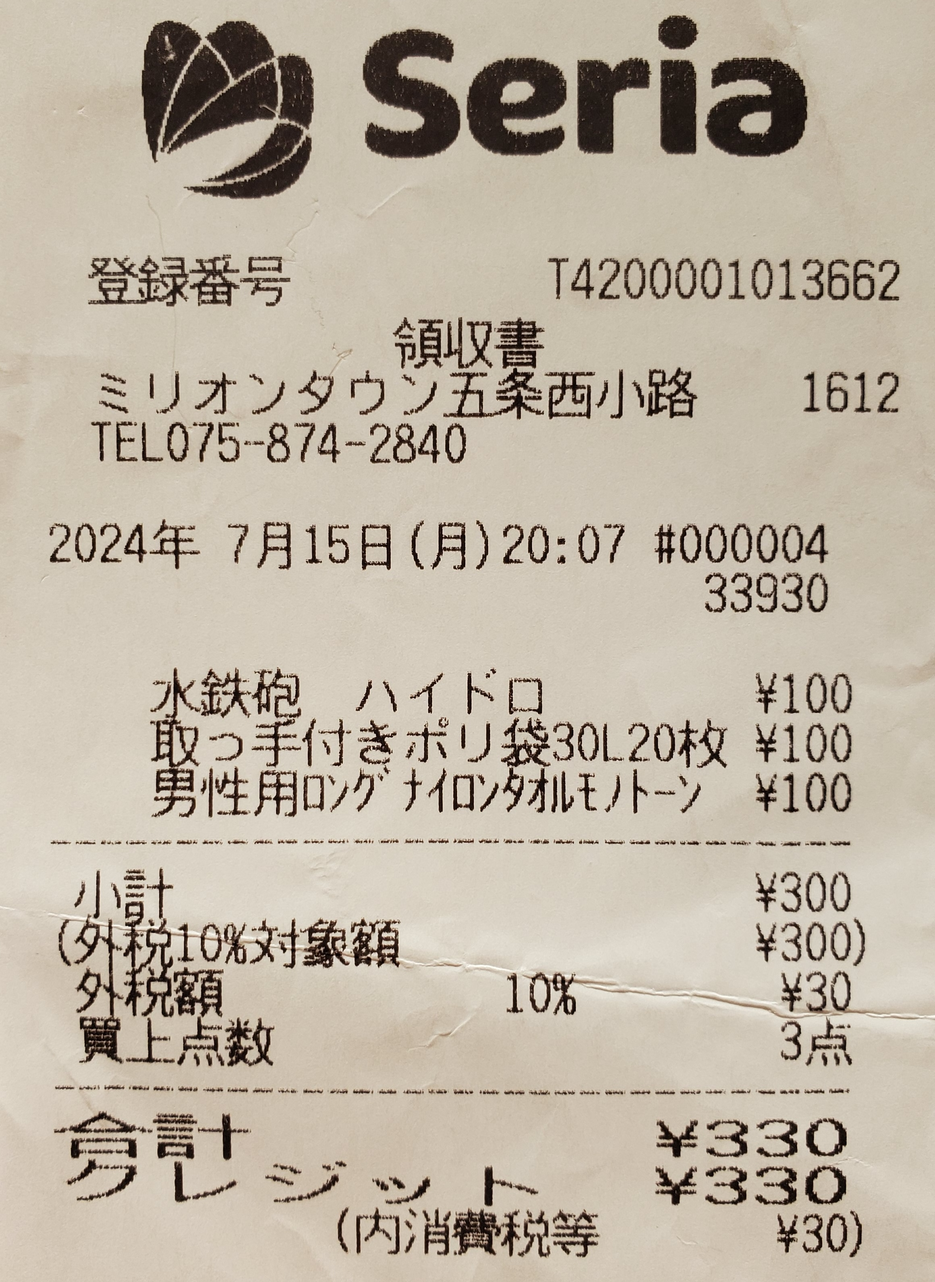Date: (42, 510, 406, 581)
Shopname: (347, 13, 835, 184)
Telnum: (158, 415, 479, 475)
Totalpay: (47, 1101, 871, 1164)
